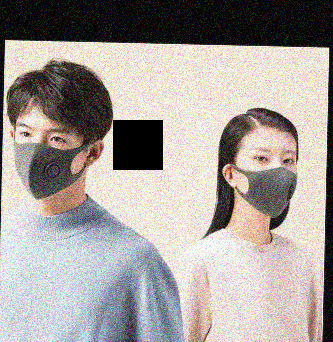with_mask: (12, 120, 85, 198), (235, 142, 298, 217)
